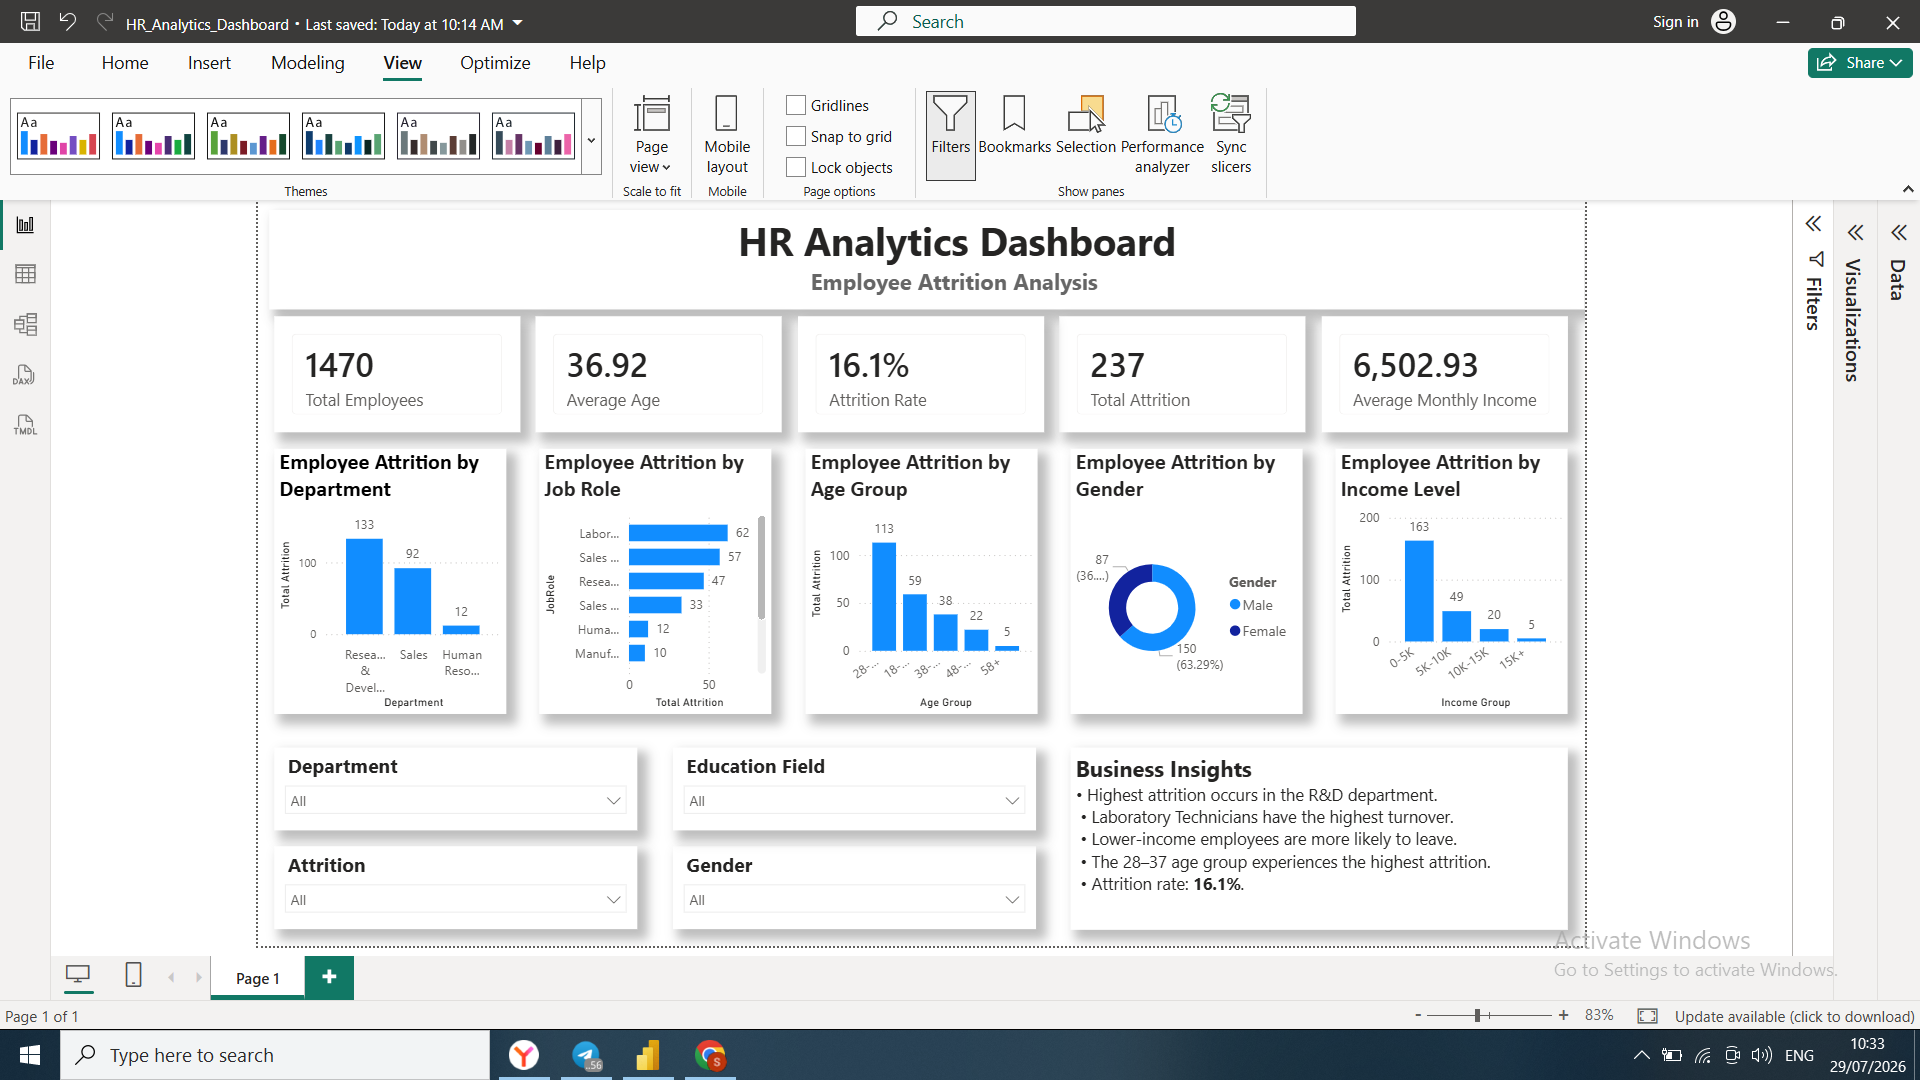

Layout of this report page (visuals, bound fields, positions):
{"tool":"powerbi","page":{"name":"Page 1","canvas":[1280,720],"ordinal":0},"visuals":[{"type":"textbox","box":[11,9.6,1269.3,96.1],"z":0},{"type":"cardVisual","fields":{"Data":["WA_Fn-UseC_-HR-Employee-Attrition.Total Employees"]},"box":[16,112,237.6,112],"z":0,"group":"g1"},{"type":"group","id":"g1","title":"Group 1","box":[16,112,1248,112],"z":1000},{"type":"cardVisual","fields":{"Data":["WA_Fn-UseC_-HR-Employee-Attrition.Total Attrition"]},"box":[773.8,112,237.6,112],"z":1000,"group":"g1"},{"type":"cardVisual","fields":{"Data":["WA_Fn-UseC_-HR-Employee-Attrition.Average Monthly Income"]},"box":[1026.4,112,237.6,112],"z":2000,"group":"g1"},{"type":"clusteredColumnChart","title":"Employee Attrition by Department","fields":{"Category":["WA_Fn-UseC_-HR-Employee-Attrition.Department"],"Y":["WA_Fn-UseC_-HR-Employee-Attrition.Total Attrition"]},"box":[16,240,224,256],"z":2000},{"type":"cardVisual","fields":{"Data":["WA_Fn-UseC_-HR-Employee-Attrition.Average Age"]},"box":[268.6,112,237.6,112],"z":3000,"group":"g1"},{"type":"clusteredBarChart","title":"Employee Attrition by Job Role","fields":{"Category":["WA_Fn-UseC_-HR-Employee-Attrition.JobRole"],"Y":["WA_Fn-UseC_-HR-Employee-Attrition.Total Attrition"]},"box":[272,240,224,256],"z":3000},{"type":"cardVisual","fields":{"Data":["WA_Fn-UseC_-HR-Employee-Attrition.Attrition Rate"]},"box":[521.2,112,237.6,112],"z":4000,"group":"g1"},{"type":"clusteredColumnChart","title":"Employee Attrition by Age Group","fields":{"Y":["WA_Fn-UseC_-HR-Employee-Attrition.Total Attrition"],"Category":["WA_Fn-UseC_-HR-Employee-Attrition.Age Group"]},"box":[528,240,224,256],"z":4000},{"type":"donutChart","title":"Employee Attrition by Gender","fields":{"Category":["WA_Fn-UseC_-HR-Employee-Attrition.Gender"],"Y":["WA_Fn-UseC_-HR-Employee-Attrition.Total Attrition"]},"box":[784,240,224,256],"z":5000},{"type":"clusteredColumnChart","title":"Employee Attrition by Income Level","fields":{"Category":["WA_Fn-UseC_-HR-Employee-Attrition.Income Group"],"Y":["WA_Fn-UseC_-HR-Employee-Attrition.Total Attrition"]},"box":[1040,240,224,256],"z":6000},{"type":"slicer","fields":{"Values":["WA_Fn-UseC_-HR-Employee-Attrition.Department"]},"box":[16,528,350,80],"z":7000},{"type":"slicer","fields":{"Values":["WA_Fn-UseC_-HR-Employee-Attrition.Gender"]},"box":[400,624,350,80],"z":8000},{"type":"slicer","fields":{"Values":["WA_Fn-UseC_-HR-Employee-Attrition.EducationField"]},"box":[400,528,350,80],"z":9000},{"type":"slicer","fields":{"Values":["WA_Fn-UseC_-HR-Employee-Attrition.Attrition"]},"box":[16,624,350,80],"z":10000},{"type":"textbox","box":[784,528,480,176],"z":11000}]}

Visuals, with their boxes on the page's 1280x720 design canvas (x1, y1, x2, y2). These are canvas units, not pixel positions in the 1920x1080 screenshot, which may show the page scaled, cropped or inside an application window:
textbox: {"x1": 11, "y1": 10, "x2": 1280, "y2": 106}
cardVisual - WA_Fn-UseC_-HR-Employee-Attrition.Total Employees: {"x1": 16, "y1": 112, "x2": 254, "y2": 224}
"Group 1" group: {"x1": 16, "y1": 112, "x2": 1264, "y2": 224}
cardVisual - WA_Fn-UseC_-HR-Employee-Attrition.Total Attrition: {"x1": 774, "y1": 112, "x2": 1011, "y2": 224}
cardVisual - WA_Fn-UseC_-HR-Employee-Attrition.Average Monthly Income: {"x1": 1026, "y1": 112, "x2": 1264, "y2": 224}
"Employee Attrition by Department" clusteredColumnChart: {"x1": 16, "y1": 240, "x2": 240, "y2": 496}
cardVisual - WA_Fn-UseC_-HR-Employee-Attrition.Average Age: {"x1": 269, "y1": 112, "x2": 506, "y2": 224}
"Employee Attrition by Job Role" clusteredBarChart: {"x1": 272, "y1": 240, "x2": 496, "y2": 496}
cardVisual - WA_Fn-UseC_-HR-Employee-Attrition.Attrition Rate: {"x1": 521, "y1": 112, "x2": 759, "y2": 224}
"Employee Attrition by Age Group" clusteredColumnChart: {"x1": 528, "y1": 240, "x2": 752, "y2": 496}
"Employee Attrition by Gender" donutChart: {"x1": 784, "y1": 240, "x2": 1008, "y2": 496}
"Employee Attrition by Income Level" clusteredColumnChart: {"x1": 1040, "y1": 240, "x2": 1264, "y2": 496}
slicer - WA_Fn-UseC_-HR-Employee-Attrition.Department: {"x1": 16, "y1": 528, "x2": 366, "y2": 608}
slicer - WA_Fn-UseC_-HR-Employee-Attrition.Gender: {"x1": 400, "y1": 624, "x2": 750, "y2": 704}
slicer - WA_Fn-UseC_-HR-Employee-Attrition.EducationField: {"x1": 400, "y1": 528, "x2": 750, "y2": 608}
slicer - WA_Fn-UseC_-HR-Employee-Attrition.Attrition: {"x1": 16, "y1": 624, "x2": 366, "y2": 704}
textbox: {"x1": 784, "y1": 528, "x2": 1264, "y2": 704}
